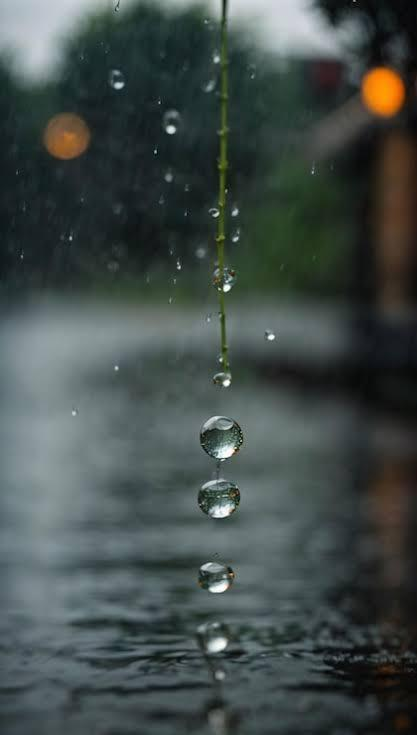water drop: (200, 413, 243, 458), (196, 480, 242, 522), (194, 620, 233, 651), (194, 564, 238, 590), (212, 265, 241, 296), (211, 366, 242, 393)
